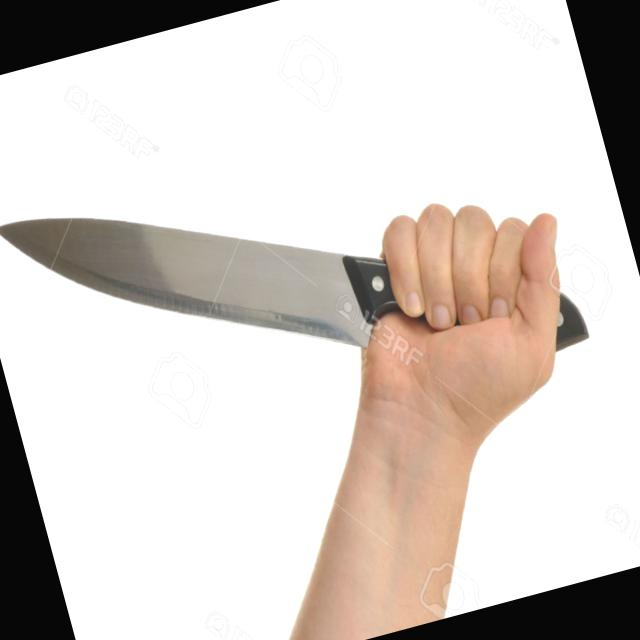knife: (0, 79, 564, 510)
